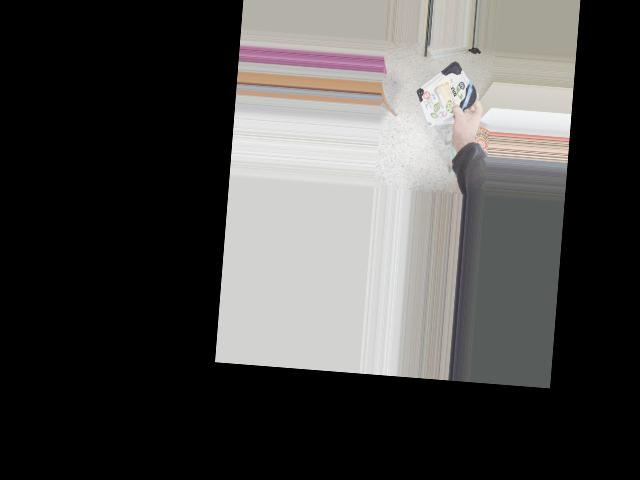cheese: (408, 59, 482, 125)
